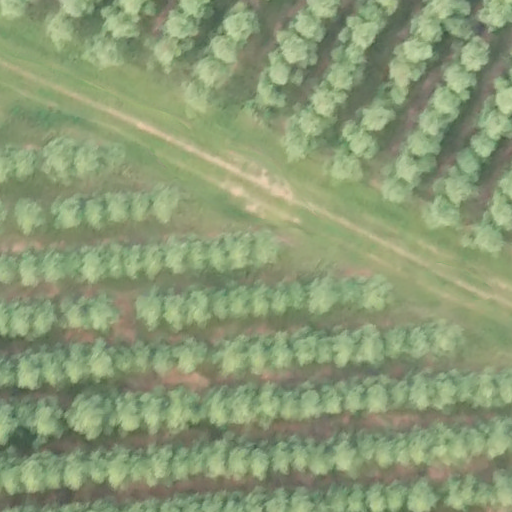eucalipto: (43, 136, 78, 187), (67, 395, 106, 439), (75, 142, 124, 177), (214, 335, 252, 376), (429, 320, 465, 361), (83, 38, 124, 73), (173, 336, 209, 375), (86, 336, 114, 383), (13, 195, 45, 236), (221, 8, 258, 43), (359, 274, 392, 313), (256, 74, 290, 110), (281, 132, 318, 165), (253, 228, 281, 271), (229, 384, 257, 427), (355, 325, 384, 366), (41, 348, 68, 392), (287, 334, 321, 368), (52, 196, 85, 231), (206, 383, 231, 429), (141, 389, 166, 435), (104, 12, 141, 43), (89, 295, 119, 333), (154, 180, 179, 225), (184, 80, 217, 114), (394, 154, 430, 185), (418, 107, 455, 137), (115, 391, 142, 432), (310, 277, 339, 315), (292, 13, 324, 47), (37, 398, 62, 441), (330, 158, 367, 187), (459, 34, 488, 71), (206, 235, 232, 276), (49, 17, 80, 51), (106, 452, 133, 491), (332, 329, 357, 371), (12, 147, 40, 184), (407, 16, 445, 43), (137, 291, 164, 329), (227, 230, 252, 271), (487, 418, 512, 458), (357, 105, 394, 132), (199, 57, 230, 89), (310, 85, 341, 117), (444, 63, 476, 94), (189, 286, 212, 329), (249, 333, 272, 376), (163, 14, 201, 40), (164, 239, 190, 277), (411, 372, 435, 413), (387, 60, 422, 88), (164, 294, 190, 331), (441, 170, 472, 201), (349, 129, 379, 161), (151, 339, 175, 379), (63, 452, 87, 492), (408, 129, 441, 158), (308, 443, 336, 477), (409, 478, 437, 512), (472, 231, 507, 258), (17, 353, 41, 392), (257, 382, 281, 421), (151, 41, 181, 72), (277, 35, 309, 64), (294, 109, 327, 137), (270, 330, 293, 370), (432, 373, 457, 409), (209, 35, 240, 64), (62, 298, 91, 329), (122, 244, 145, 283), (108, 190, 132, 227), (32, 299, 56, 336), (405, 325, 429, 362), (42, 249, 68, 283), (385, 175, 415, 204), (326, 65, 357, 93), (428, 196, 459, 224), (269, 61, 302, 87), (65, 345, 87, 384), (477, 372, 499, 411), (453, 146, 482, 175), (209, 288, 233, 323), (21, 460, 45, 495), (485, 200, 512, 231), (396, 40, 434, 62), (333, 439, 356, 475), (10, 298, 30, 339), (85, 250, 107, 287), (271, 440, 293, 477), (469, 131, 497, 160), (385, 480, 410, 512), (412, 429, 433, 467), (227, 443, 248, 481), (86, 195, 108, 231), (289, 280, 311, 316), (454, 371, 478, 404), (249, 446, 271, 482), (321, 384, 344, 418), (381, 329, 407, 359), (142, 243, 163, 280), (187, 237, 208, 273), (367, 386, 391, 417), (301, 1, 340, 20), (300, 391, 323, 423), (16, 400, 39, 432), (289, 485, 316, 512), (483, 115, 512, 140), (117, 1, 155, 20), (22, 251, 42, 287), (449, 431, 470, 465), (206, 444, 227, 478), (355, 430, 378, 461), (130, 192, 152, 224), (1, 403, 17, 447), (178, 1, 217, 19), (433, 90, 462, 114), (231, 286, 252, 319), (346, 384, 369, 414), (64, 251, 86, 282), (443, 477, 463, 511), (129, 341, 151, 371), (389, 380, 411, 410), (43, 457, 63, 490), (113, 343, 133, 375), (86, 454, 108, 483), (271, 283, 289, 318), (377, 441, 398, 471), (290, 439, 308, 473), (491, 87, 512, 115), (152, 448, 172, 477), (1, 466, 21, 495), (254, 283, 271, 317), (367, 482, 386, 512), (62, 1, 95, 18), (1, 1, 29, 21), (327, 483, 346, 512), (281, 398, 303, 423), (266, 487, 288, 512), (347, 485, 367, 512), (475, 481, 495, 508), (316, 339, 335, 367), (1, 357, 17, 390), (467, 428, 485, 457), (462, 473, 477, 507), (245, 487, 265, 512), (1, 252, 17, 283), (109, 245, 122, 283), (172, 457, 191, 483), (497, 375, 512, 406), (203, 492, 225, 512), (190, 451, 207, 476), (224, 490, 243, 512), (180, 494, 202, 512), (159, 498, 178, 512)
